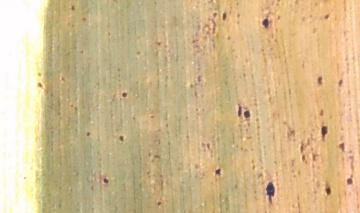tarspot: (264, 179, 275, 203), (320, 122, 328, 142), (337, 140, 346, 154), (236, 102, 243, 118), (261, 16, 270, 28), (345, 174, 354, 185), (35, 81, 46, 89), (324, 184, 332, 195), (221, 11, 228, 22), (102, 176, 111, 184), (118, 133, 126, 142), (243, 109, 251, 118), (323, 10, 330, 20), (297, 143, 304, 153), (84, 129, 92, 137), (299, 153, 307, 161), (120, 91, 129, 98), (215, 167, 222, 176), (317, 75, 323, 85), (337, 77, 343, 87), (70, 4, 77, 12), (206, 141, 212, 150), (36, 70, 42, 78), (60, 74, 66, 82), (153, 153, 161, 159), (81, 15, 87, 22), (156, 200, 162, 207), (319, 110, 325, 117), (212, 11, 218, 16)
